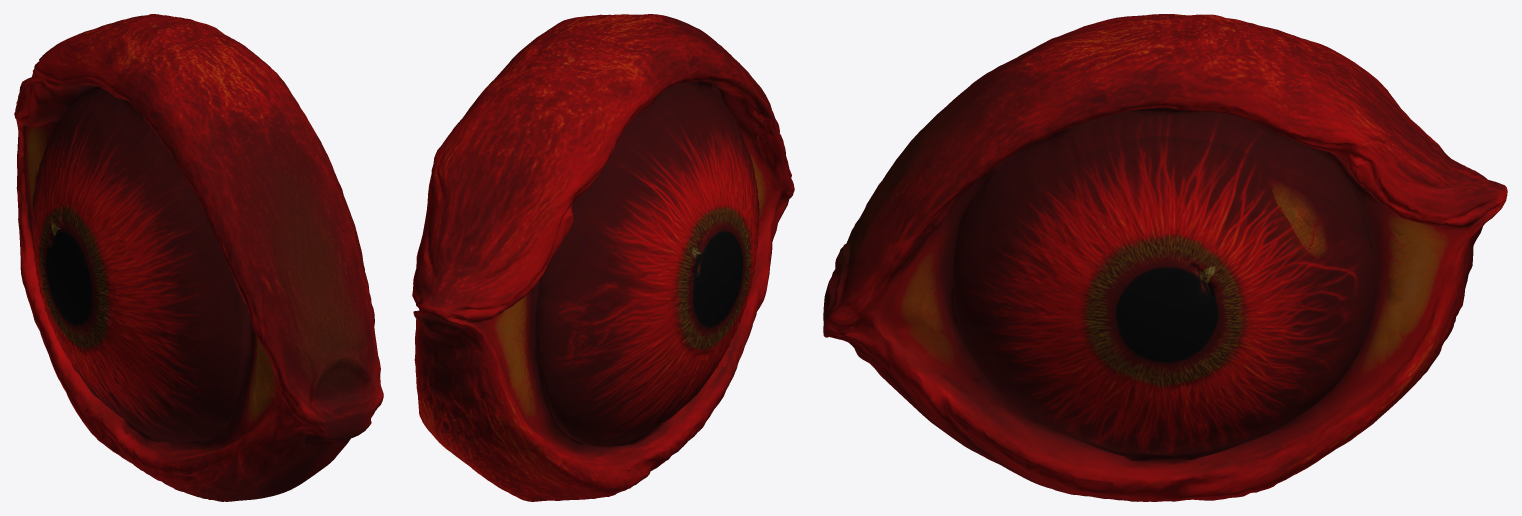
The model's file is ojo.fbx.
3 renders of one model, left to right at view 1: azimuth 30°, elevation 25°; view 2: azimuth 150°, elevation 25°; view 3: azimuth 270°, elevation 25°, orthographic. The views are drawn at different scales.
Parts seen in each view (by area): view 1: tripo_node_1125f04b; view 2: tripo_node_1125f04b; view 3: tripo_node_1125f04b.
Boxes of the visible parts, x1,y1,x2,y2 form: tripo_node_1125f04b: (14, 14, 383, 501); tripo_node_1125f04b: (412, 14, 794, 501); tripo_node_1125f04b: (823, 14, 1507, 501).
Bounding box in the file's own units: 0.4536 × 0.7507 × 1.
1 material, 1 textured.
